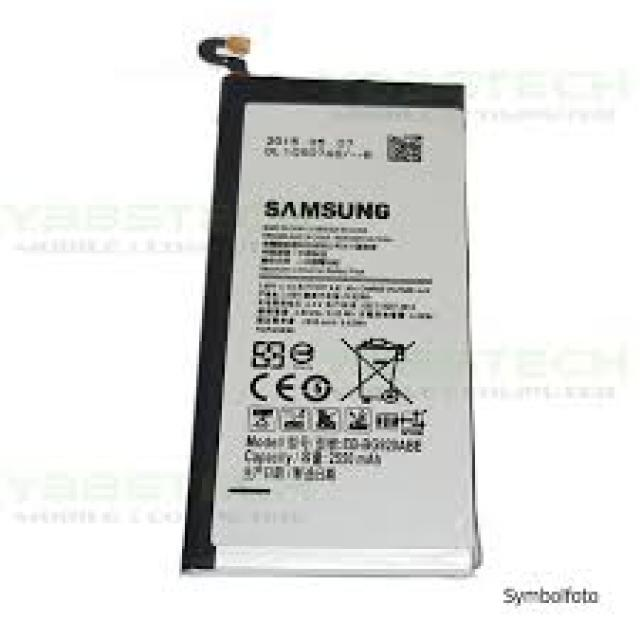non-organic waste: (174, 36, 482, 578)
